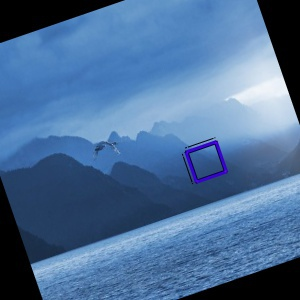square: (181, 137, 229, 187)
